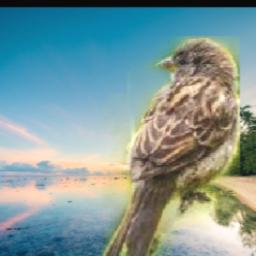Sparrow: (103, 37, 241, 256)
